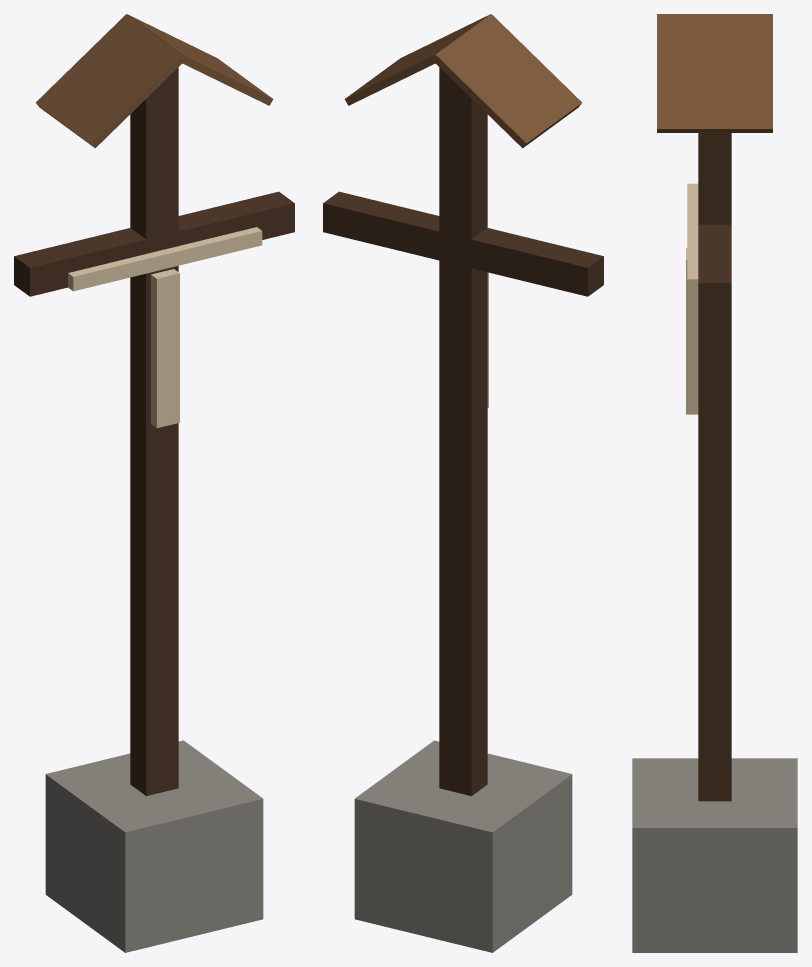
The model's file is prop-wayside_cross.glb.
3 views of the same model, side by side, from view 1: azimuth 30°, elevation 25°; view 2: azimuth 150°, elevation 25°; view 3: azimuth 270°, elevation 25° (orthographic). The views are drawn at different scales.
Parts seen in each view (by area): view 1: wayside_cross; view 2: wayside_cross; view 3: wayside_cross.
Part boxes in pixels (x1=…): wayside_cross: x1=14, y1=14, x2=294, y2=952; wayside_cross: x1=323, y1=14, x2=603, y2=952; wayside_cross: x1=632, y1=14, x2=797, y2=952.
Size of the model in its own units: 1.15 by 3.62 by 0.6.
